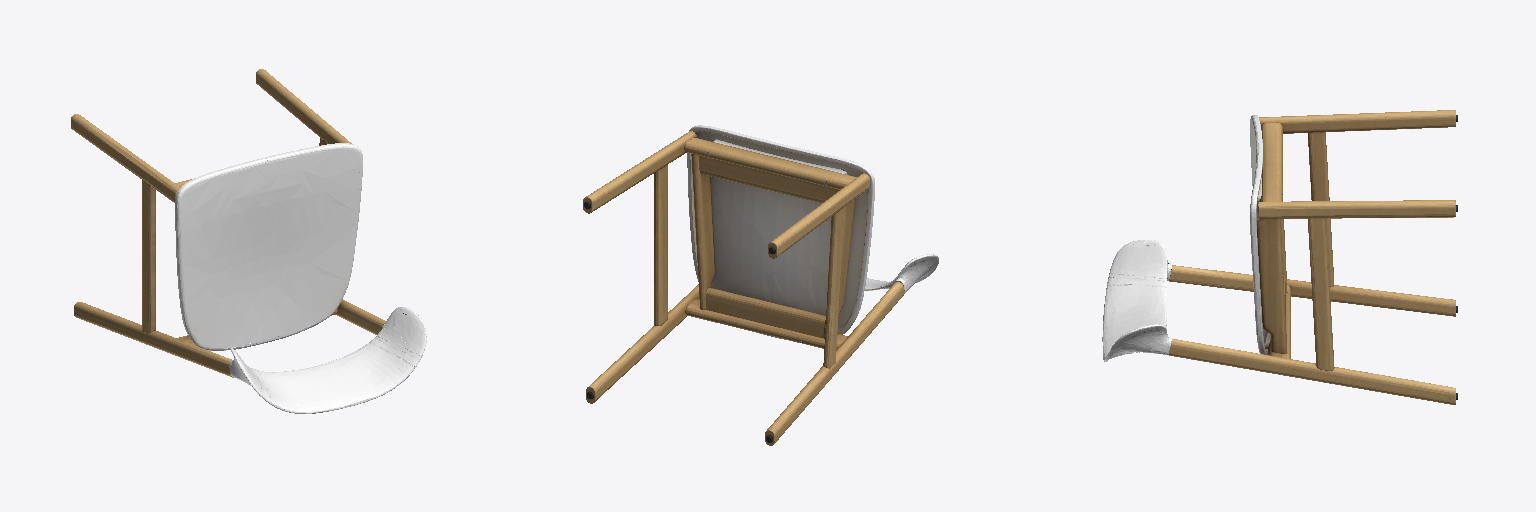
The picture shows the model from 3 angles: view 1: azimuth 30°, elevation 25°; view 2: azimuth 150°, elevation 25°; view 3: azimuth 270°, elevation 25°; orthographic projection.
Size of the model in its own units: 0.5727 by 0.5915 by 0.9048.
1 materials, 1 textured.